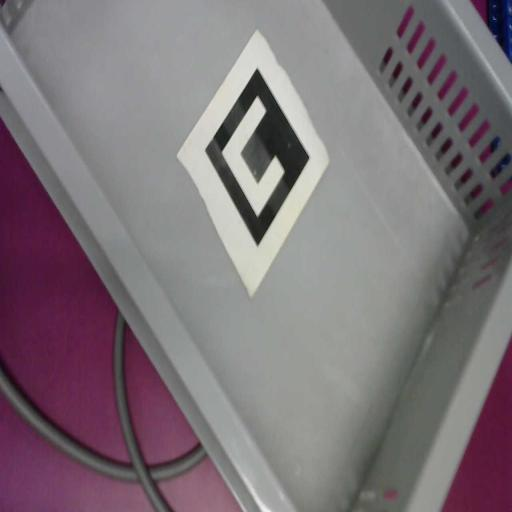QR: (176, 29, 329, 300)
